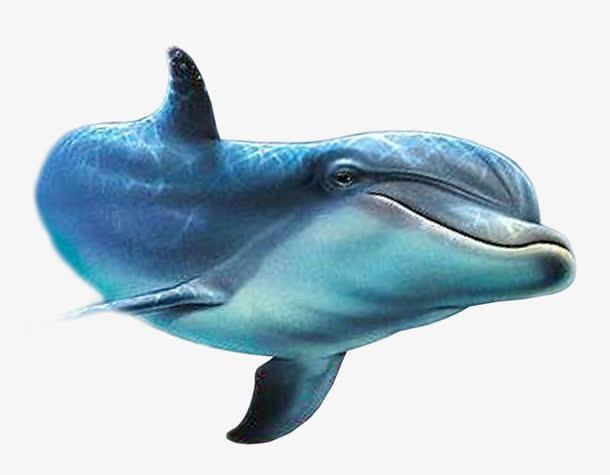fish: (34, 46, 577, 443)
